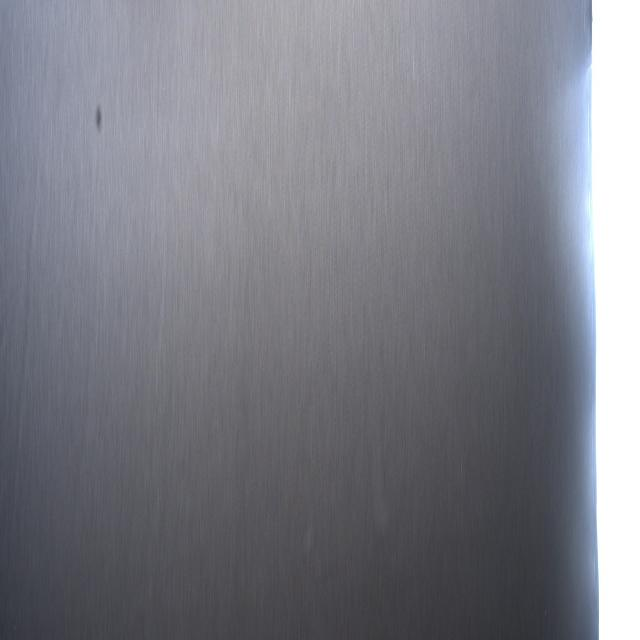crease: (13, 55, 53, 525), (368, 449, 393, 550)
